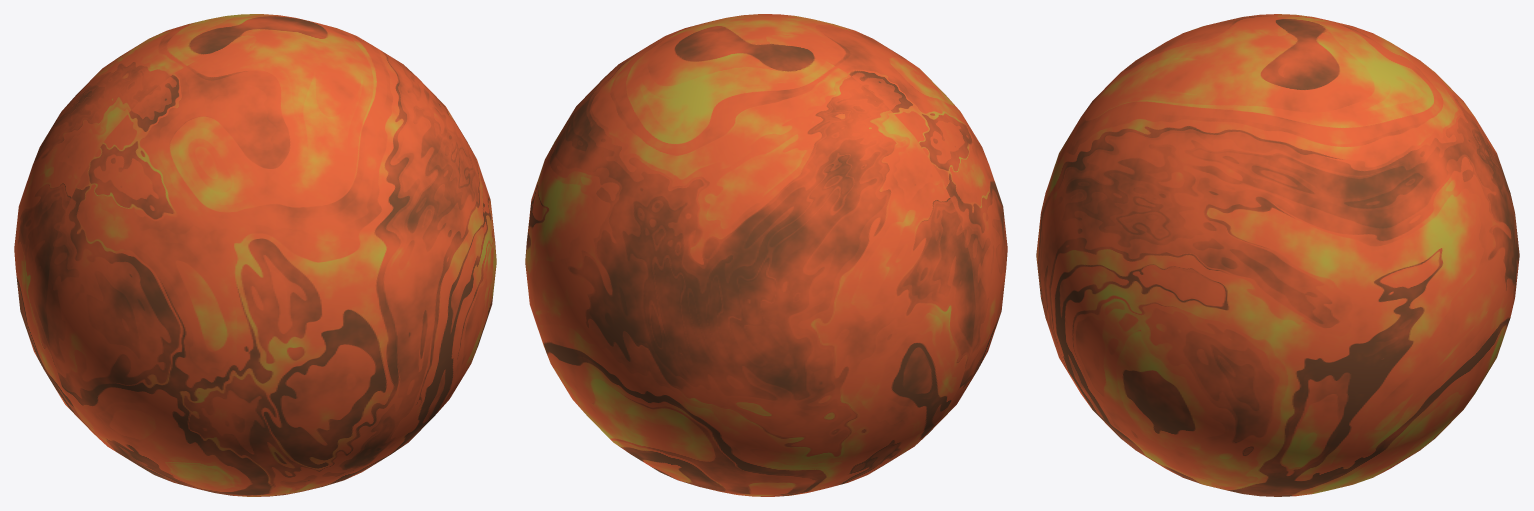
Rendered from TOI286_c.fbx.
The picture shows the model from 3 angles, left to right: view 1: azimuth 30°, elevation 25°; view 2: azimuth 150°, elevation 25°; view 3: azimuth 270°, elevation 25°; orthographic projection.
Parts seen in each view (by area): view 1: TOI286_c; view 2: TOI286_c; view 3: TOI286_c.
Boxes of the visible parts, x1=… form: TOI286_c: x1=14, y1=14, x2=496, y2=496; TOI286_c: x1=525, y1=14, x2=1007, y2=496; TOI286_c: x1=1036, y1=14, x2=1519, y2=496.
Bounding box in the file's own units: 205 × 205 × 205.
Materials: 1 (1 with a texture image).
